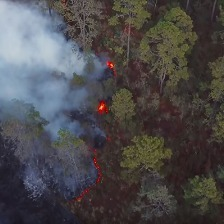incendio: (15, 76, 88, 149), (82, 48, 126, 78), (92, 94, 116, 119)
